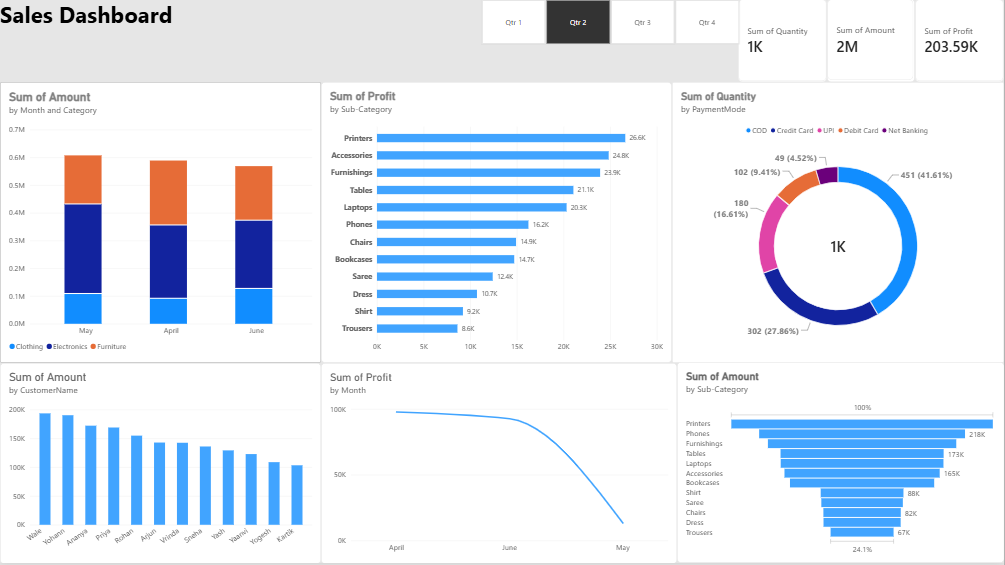

Layout of this report page (visuals, bound fields, positions):
{"tool":"powerbi","page":{"name":"Page 1","canvas":[1920,1080],"ordinal":0},"visuals":[{"type":"textbox","box":[0,0,510.6,88],"z":0},{"type":"columnChart","fields":{"Category":["Ecommerce_Sales_Data.Month"],"Series":["Ecommerce_Sales_Data.Category"],"Y":["Sum(Ecommerce_Sales_Data.Amount)"]},"box":[0,158.7,613.9,537.4],"z":3000},{"type":"clusteredBarChart","fields":{"Category":["Ecommerce_Sales_Data.Sub-Category"],"Y":["Sum(Ecommerce_Sales_Data.Profit)"]},"box":[613.9,158.7,671.2,537.4],"z":4000},{"type":"donutChart","fields":{"Category":["Ecommerce_Sales_Data.PaymentMode"],"Y":["Sum(Ecommerce_Sales_Data.Quantity)"]},"box":[1285.1,158.7,634.9,537.4],"z":5000},{"type":"clusteredColumnChart","fields":{"Category":["Ecommerce_Sales_Data.CustomerName"],"Y":["Sum(Ecommerce_Sales_Data.Amount)"]},"box":[0,696.1,613.9,384.4],"z":6000},{"type":"lineChart","fields":{"Category":["Ecommerce_Sales_Data.Month"],"Y":["Sum(Ecommerce_Sales_Data.Profit)"]},"box":[613.9,696.1,680.8,384.4],"z":6001},{"type":"funnel","fields":{"Category":["Ecommerce_Sales_Data.Sub-Category"],"Y":["Sum(Ecommerce_Sales_Data.Amount)"]},"box":[1294.7,694.2,626,384],"z":6002},{"type":"cardVisual","fields":{"Data":["Sum(Ecommerce_Sales_Data.Quantity)"]},"box":[1411.3,0,170.2,158.7],"z":6003},{"type":"cardVisual","fields":{"Data":["Sum(Ecommerce_Sales_Data.Amount)"]},"box":[1581.5,0,168.3,158.7],"z":6004},{"type":"cardVisual","fields":{"Data":["Sum(Ecommerce_Sales_Data.Profit)"]},"box":[1749.8,0,170.2,158.7],"z":6005},{"type":"slicer","fields":{"Values":["Ecommerce_Sales_Data.Quarter"]},"box":[900.7,0,531.6,88],"z":6006}]}

Visuals, with their boxes in screenshot pixels (x1, y1, x2, y2), scaled from the page's 1920x1080 canvas onto the 1005x565 screenshot:
textbox: BBox(0, 0, 267, 46)
columnChart - Ecommerce_Sales_Data.Month x Ecommerce_Sales_Data.Category: BBox(0, 83, 321, 364)
clusteredBarChart - Ecommerce_Sales_Data.Sub-Category x Sum(Ecommerce_Sales_Data.Profit): BBox(321, 83, 673, 364)
donutChart - Ecommerce_Sales_Data.PaymentMode x Sum(Ecommerce_Sales_Data.Quantity): BBox(673, 83, 1004, 364)
clusteredColumnChart - Ecommerce_Sales_Data.CustomerName x Sum(Ecommerce_Sales_Data.Amount): BBox(0, 364, 321, 564)
lineChart - Ecommerce_Sales_Data.Month x Sum(Ecommerce_Sales_Data.Profit): BBox(321, 364, 678, 564)
funnel - Ecommerce_Sales_Data.Sub-Category x Sum(Ecommerce_Sales_Data.Amount): BBox(678, 363, 1004, 564)
cardVisual - Sum(Ecommerce_Sales_Data.Quantity): BBox(739, 0, 828, 83)
cardVisual - Sum(Ecommerce_Sales_Data.Amount): BBox(828, 0, 916, 83)
cardVisual - Sum(Ecommerce_Sales_Data.Profit): BBox(916, 0, 1004, 83)
slicer - Ecommerce_Sales_Data.Quarter: BBox(471, 0, 750, 46)
